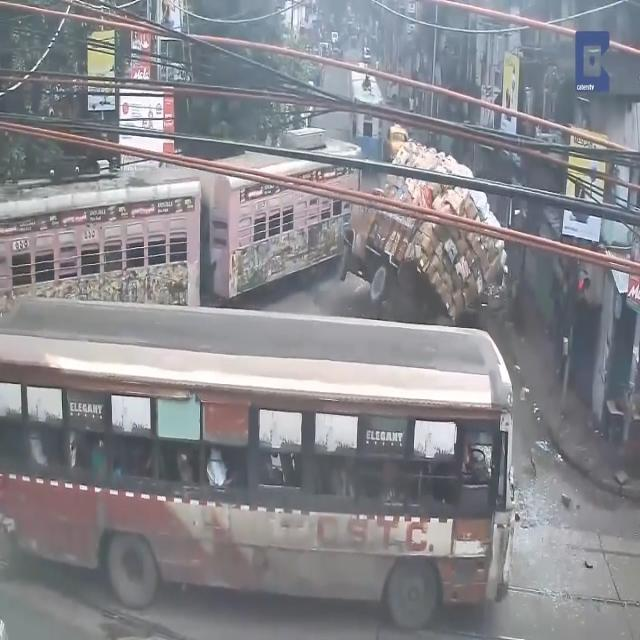accident: (329, 80, 509, 338)
